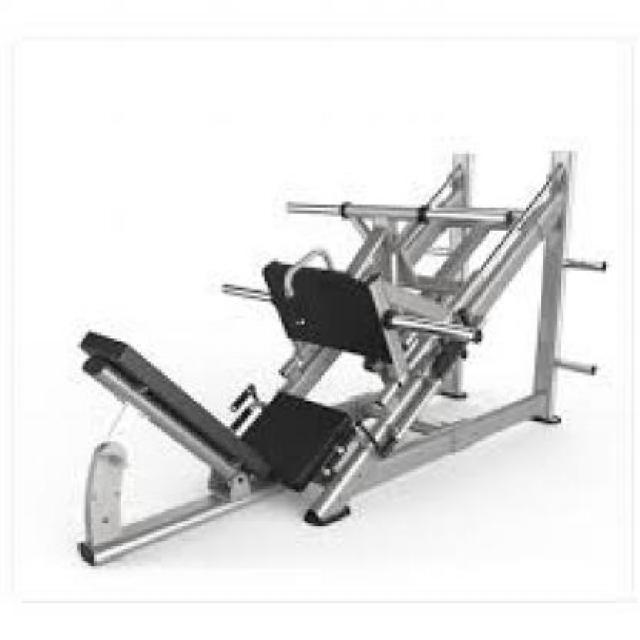leg press: (57, 132, 634, 576)
